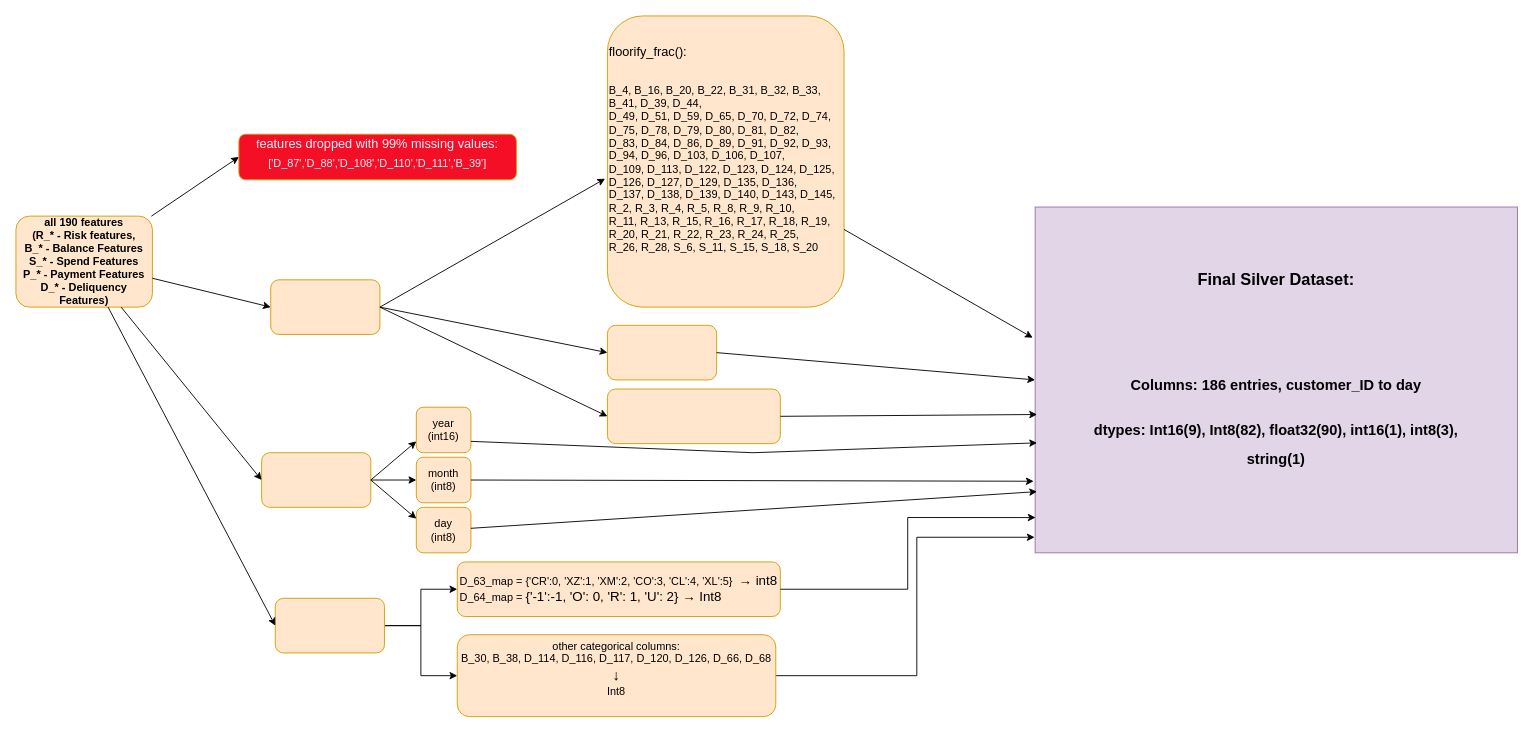
The diagram is 1533 pixels wide and 733 high, and some of its shapes have lost their labels. The box of each missing label's shape, as (x1, y1, x2, y2) in pixels:
all float features to float32: (270, 279, 380, 334)
categorical features: (274, 597, 384, 653)
date feature: S_2: (261, 452, 371, 507)
floorify(): S_8, S_13: (607, 324, 717, 380)
floorify_ones_and_zeroes(): rest of the float features: (607, 388, 780, 444)
